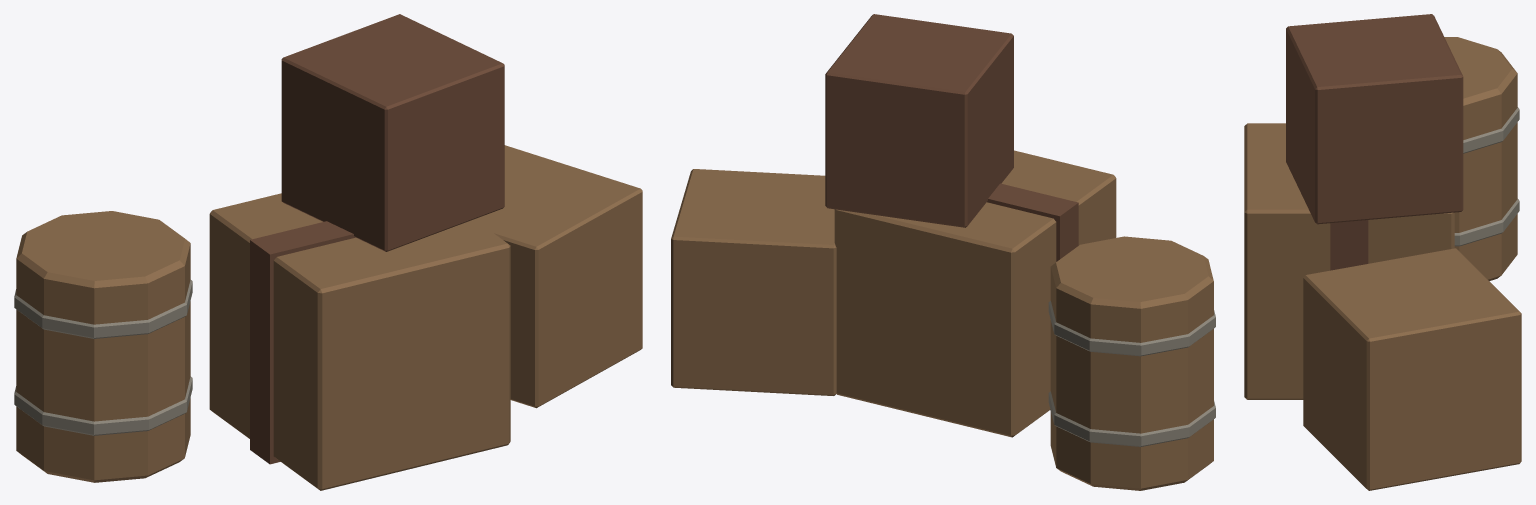
The model's file is crates.glb.
3 views of the same model, side by side, from view 1: azimuth 30°, elevation 25°; view 2: azimuth 150°, elevation 25°; view 3: azimuth 270°, elevation 25° (orthographic). The views are drawn at different scales.
Visible parts, largest first — view 1: cr_1, cr_3, cr_barrel, cr_2, cr_1b, cr_band2, cr_band1; view 2: cr_1, cr_2, cr_3, cr_barrel, cr_1b, cr_band2, cr_band1; view 3: cr_2, cr_3, cr_1, cr_barrel, cr_1b, cr_band2, cr_band1.
Part boxes in pixels (<box>): cr_1: <box>209,193,510,490</box>; cr_3: <box>281,14,504,251</box>; cr_barrel: <box>16,211,190,482</box>; cr_2: <box>475,145,642,408</box>; cr_1b: <box>250,221,355,464</box>; cr_band2: <box>14,376,192,435</box>; cr_band1: <box>14,280,192,338</box>; cr_1: <box>834,150,1116,437</box>; cr_2: <box>671,169,836,395</box>; cr_3: <box>825,14,1013,227</box>; cr_barrel: <box>1050,236,1213,490</box>; cr_1b: <box>987,183,1078,410</box>; cr_band2: <box>1048,391,1215,446</box>; cr_band1: <box>1048,301,1215,356</box>; cr_2: <box>1303,248,1521,490</box>; cr_3: <box>1286,14,1463,224</box>; cr_1: <box>1244,123,1454,399</box>; cr_barrel: <box>1444,37,1517,280</box>; cr_1b: <box>1330,220,1368,270</box>; cr_band2: <box>1454,199,1519,246</box>; cr_band1: <box>1463,107,1519,153</box>.
Bounding box in the file's own units: 1.5 × 0.87 × 0.6598.
